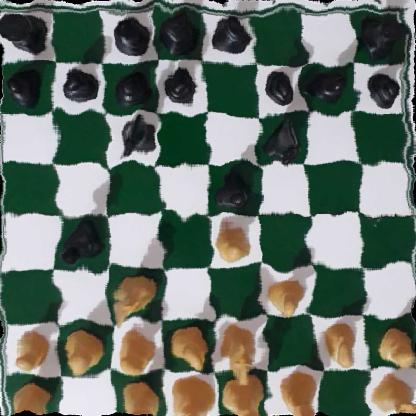black-bishop: (56, 218, 107, 264), (106, 15, 152, 57)
black-king: (210, 14, 251, 56)
black-knight: (265, 113, 301, 166), (116, 114, 155, 158)
black-pawn: (211, 168, 254, 208), (164, 61, 200, 104), (6, 64, 43, 105), (112, 67, 149, 107), (311, 64, 347, 103), (60, 64, 96, 100), (364, 69, 398, 106), (262, 67, 298, 100)
black-queen: (157, 14, 199, 54)
black-rook: (0, 8, 50, 55), (355, 7, 406, 53)
white-bishop: (274, 374, 322, 416), (117, 379, 162, 416)
white-king: (220, 373, 266, 416)
white-knight: (111, 272, 157, 327), (220, 320, 261, 381)
white-pawn: (316, 318, 357, 368), (12, 330, 54, 374), (169, 325, 209, 371), (63, 331, 106, 370), (377, 324, 415, 367), (212, 221, 252, 259), (115, 333, 155, 371), (268, 273, 305, 311)
white-queen: (168, 375, 215, 416)
white-rook: (376, 370, 416, 416), (3, 378, 51, 416)
